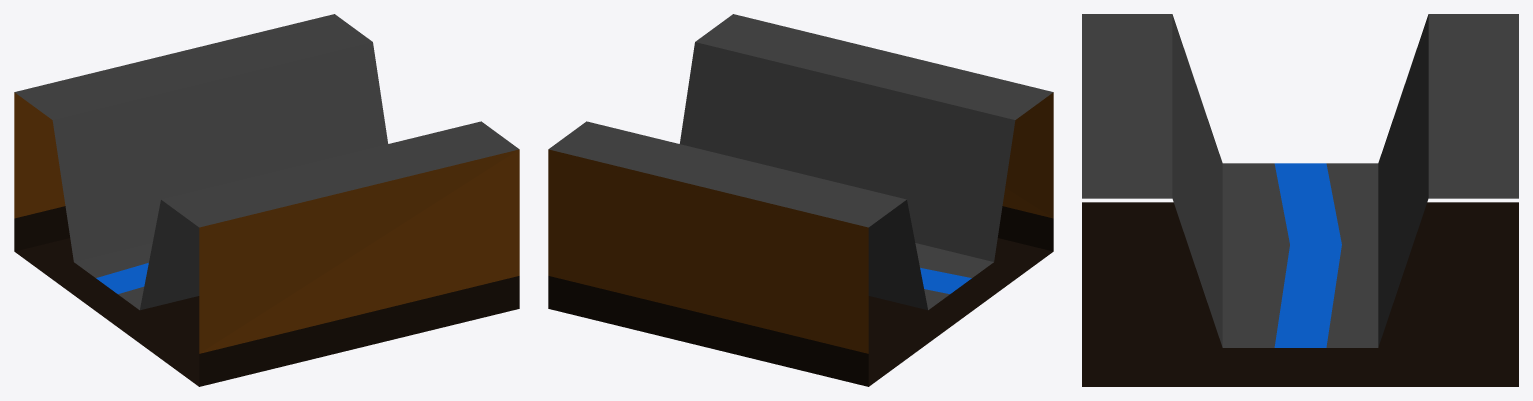
The model's file is SM_river_small.FBX.
3 renders of one model, left to right at view 1: azimuth 30°, elevation 25°; view 2: azimuth 150°, elevation 25°; view 3: azimuth 270°, elevation 25°, orthographic. The views are drawn at different scales.
Visible parts, largest first — view 1: river002; view 2: river002; view 3: river002.
Boxes of the visible parts, x1,y1,x2,y2 form: river002: (14,14,519,386); river002: (548,14,1053,386); river002: (1082,14,1518,386).
Size of the model in its own units: 1000 by 476 by 1000.
